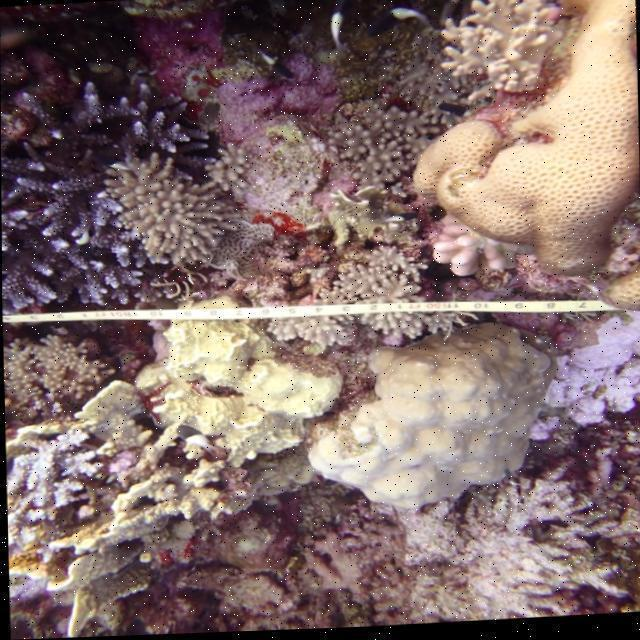Bleached Coral: (371, 490, 624, 624), (531, 275, 640, 467), (6, 394, 119, 521)
Healthy Coral: (408, 0, 640, 273)
